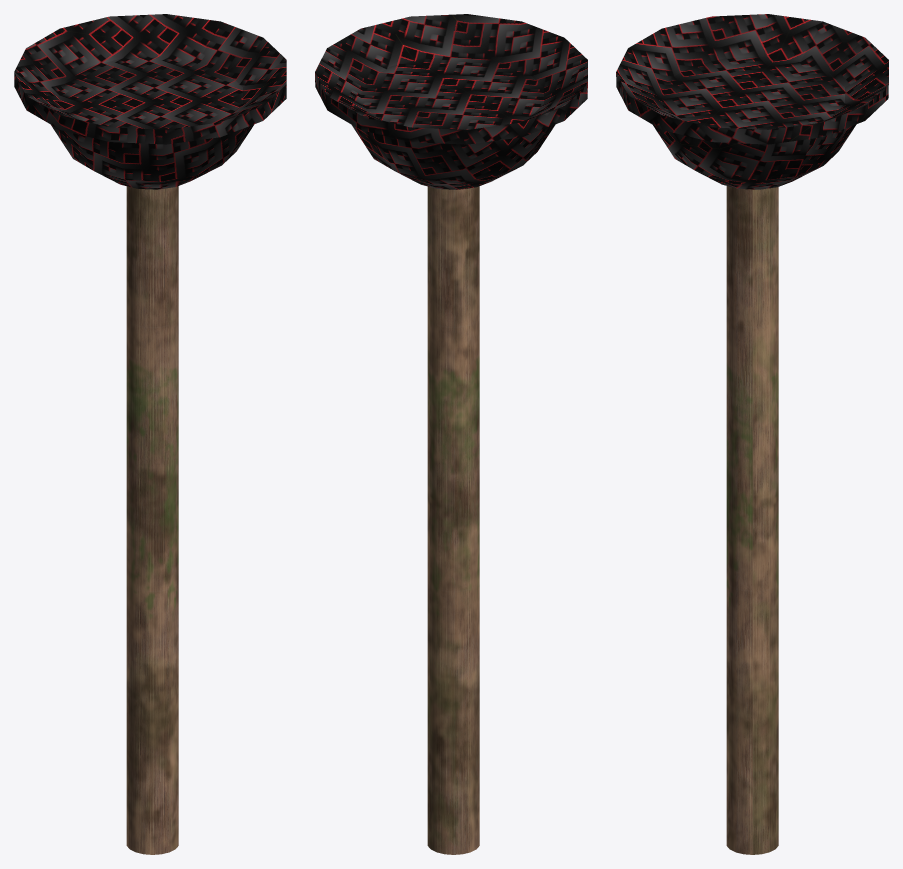
File: Desatascador_steelred.FBX
The picture shows the model from 3 angles, left to right: view 1: azimuth 30°, elevation 25°; view 2: azimuth 150°, elevation 25°; view 3: azimuth 270°, elevation 25°; orthographic projection.
Visible parts, largest first — view 1: Desatascador, Palo; view 2: Desatascador, Palo; view 3: Desatascador, Palo.
Part boxes in pixels (x1,y1,x2,y2): Desatascador: (14,14,286,189); Palo: (126,186,178,854); Desatascador: (315,14,587,189); Palo: (427,186,479,854); Desatascador: (616,14,888,189); Palo: (726,186,778,854).
Bounding box in the file's own units: 0.8388 × 2.6 × 0.8342.
Materials: 2 (2 with a texture image).
